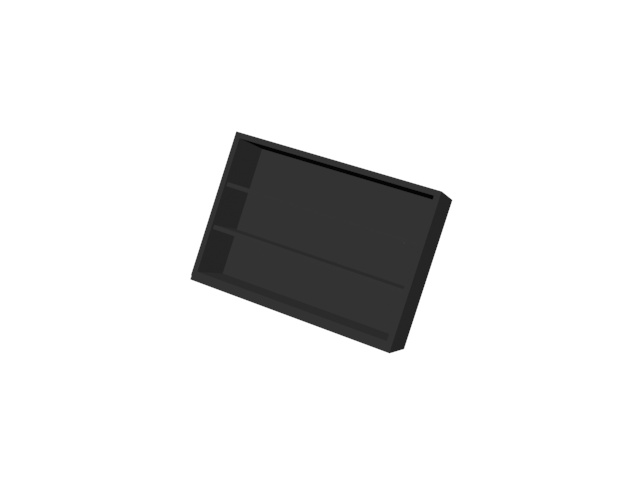bookcase: (185, 129, 456, 360)
